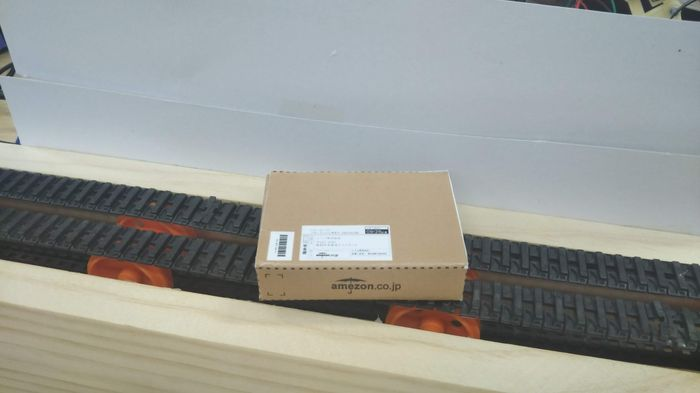box2: (250, 163, 472, 304)
